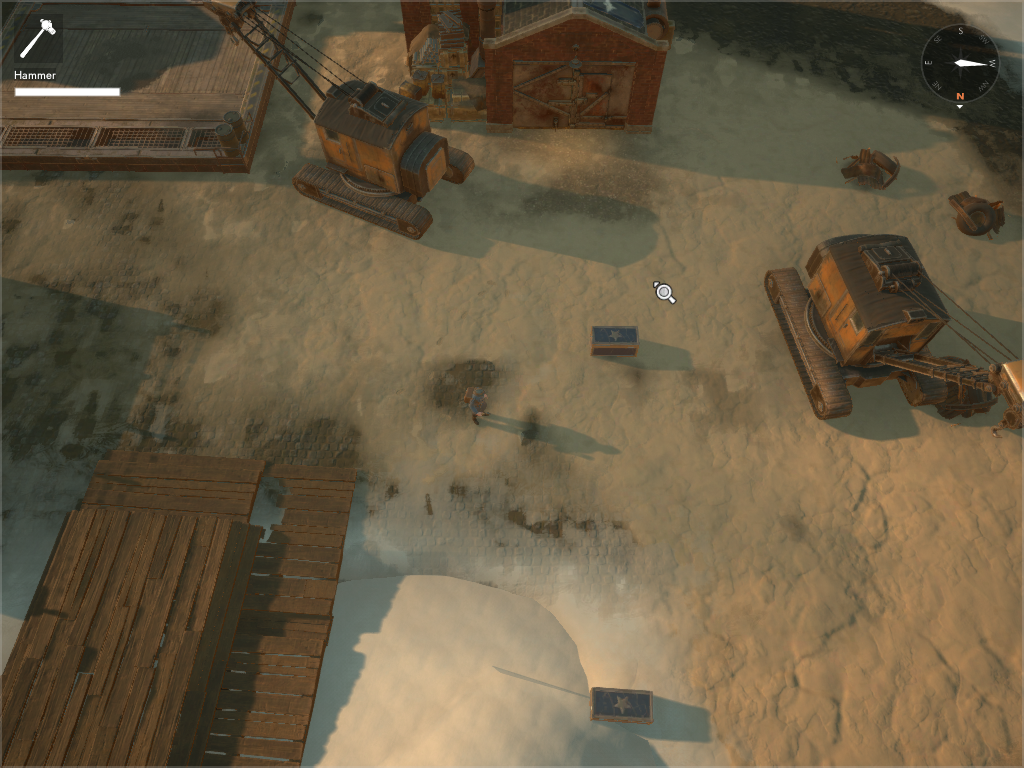crane: (201, 1, 476, 240), (763, 232, 1024, 439)
player: (462, 385, 492, 427)
scrap: (946, 184, 1012, 245), (832, 144, 909, 196)
storage_box: (586, 683, 655, 727), (587, 323, 642, 358)
